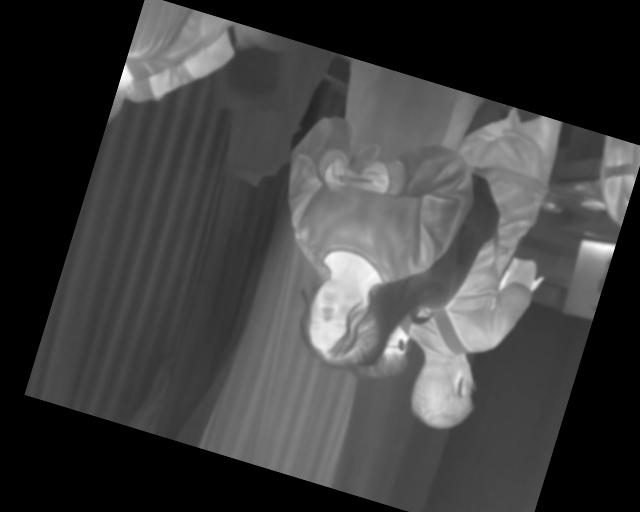face: (292, 273, 394, 379)
